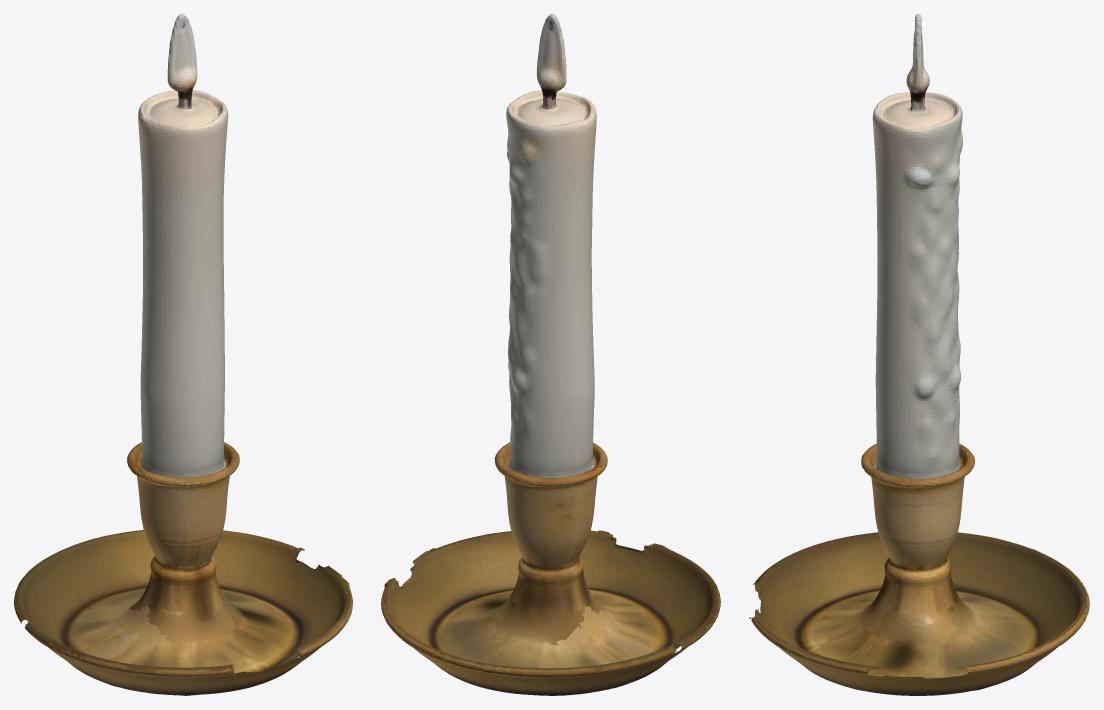
File: mdl_candle_001.glb
3 renders of one model, left to right at view 1: azimuth 30°, elevation 25°; view 2: azimuth 150°, elevation 25°; view 3: azimuth 270°, elevation 25°, orthographic.
Visible parts, largest first — view 1: tmpm9ll_hxb.ply; view 2: tmpm9ll_hxb.ply; view 3: tmpm9ll_hxb.ply.
Boxes of the visible parts, x1,y1,x2,y2 form: tmpm9ll_hxb.ply: (14,14,352,695); tmpm9ll_hxb.ply: (381,14,720,695); tmpm9ll_hxb.ply: (749,14,1089,695).
Size of the model in its own units: 0.4787 by 0.9887 by 0.4847.
Materials: 1 (1 with a texture image).
